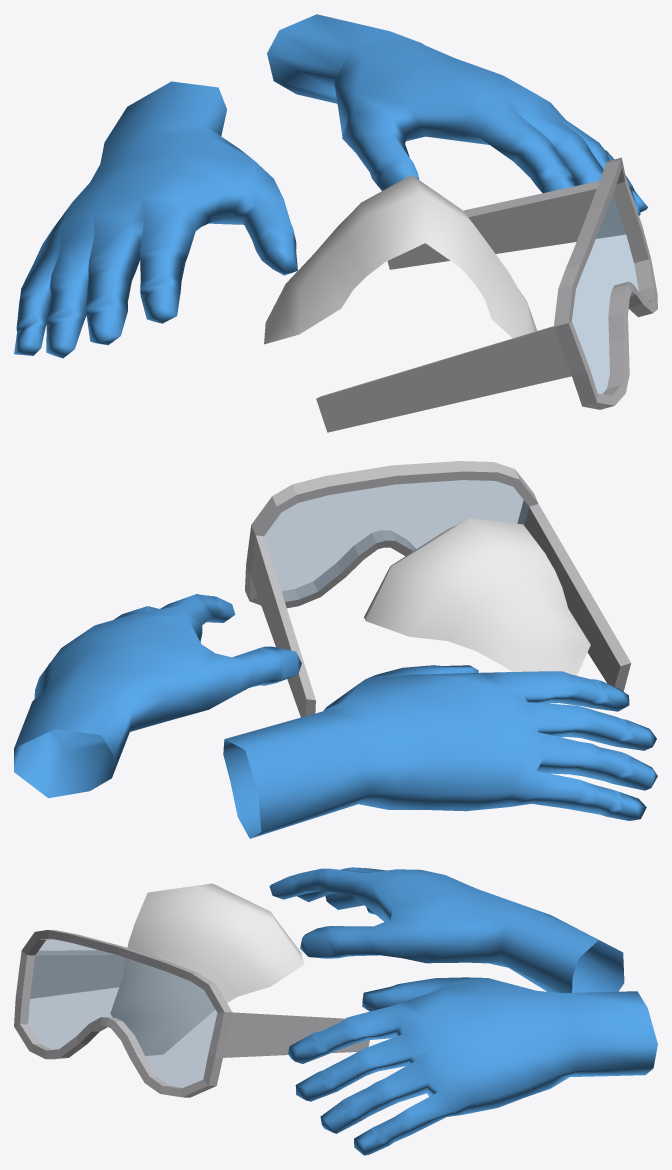
Rendered from csi_agent_lab_clothes.fbx.
3 renders of one model, top to bottom at view 1: azimuth 30°, elevation 25°; view 2: azimuth 150°, elevation 25°; view 3: azimuth 270°, elevation 25°, orthographic. The views are drawn at different scales.
Visible parts, largest first — view 1: npc_hmn_01f_lod0.003, npc_hmn_01f_lod0.002, npc_hmn_01f_lod0.001; view 2: npc_hmn_01f_lod0.003, npc_hmn_01f_lod0.002, npc_hmn_01f_lod0.001; view 3: npc_hmn_01f_lod0.003, npc_hmn_01f_lod0.002, npc_hmn_01f_lod0.001.
Part boxes in pixels (left/top/right/bottom): npc_hmn_01f_lod0.003: left=14, top=14, right=647, bottom=358; npc_hmn_01f_lod0.002: left=316, top=157, right=657, bottom=432; npc_hmn_01f_lod0.001: left=264, top=175, right=537, bottom=344; npc_hmn_01f_lod0.003: left=14, top=594, right=657, bottom=838; npc_hmn_01f_lod0.002: left=245, top=461, right=631, bottom=717; npc_hmn_01f_lod0.001: left=364, top=518, right=590, bottom=675; npc_hmn_01f_lod0.003: left=269, top=867, right=657, bottom=1155; npc_hmn_01f_lod0.002: left=14, top=930, right=369, bottom=1097; npc_hmn_01f_lod0.001: left=110, top=883, right=304, bottom=1055.
Bounding box in the file's own units: 33.78 × 9.45 × 37.18.
